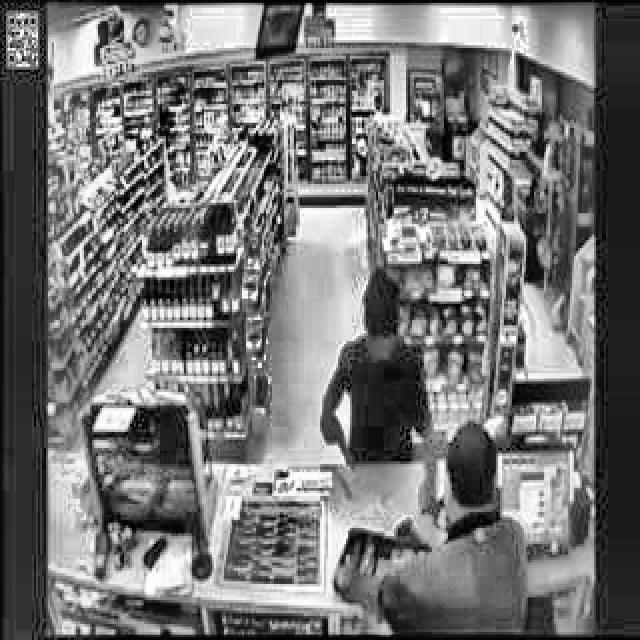robbery: (320, 269, 447, 522)
